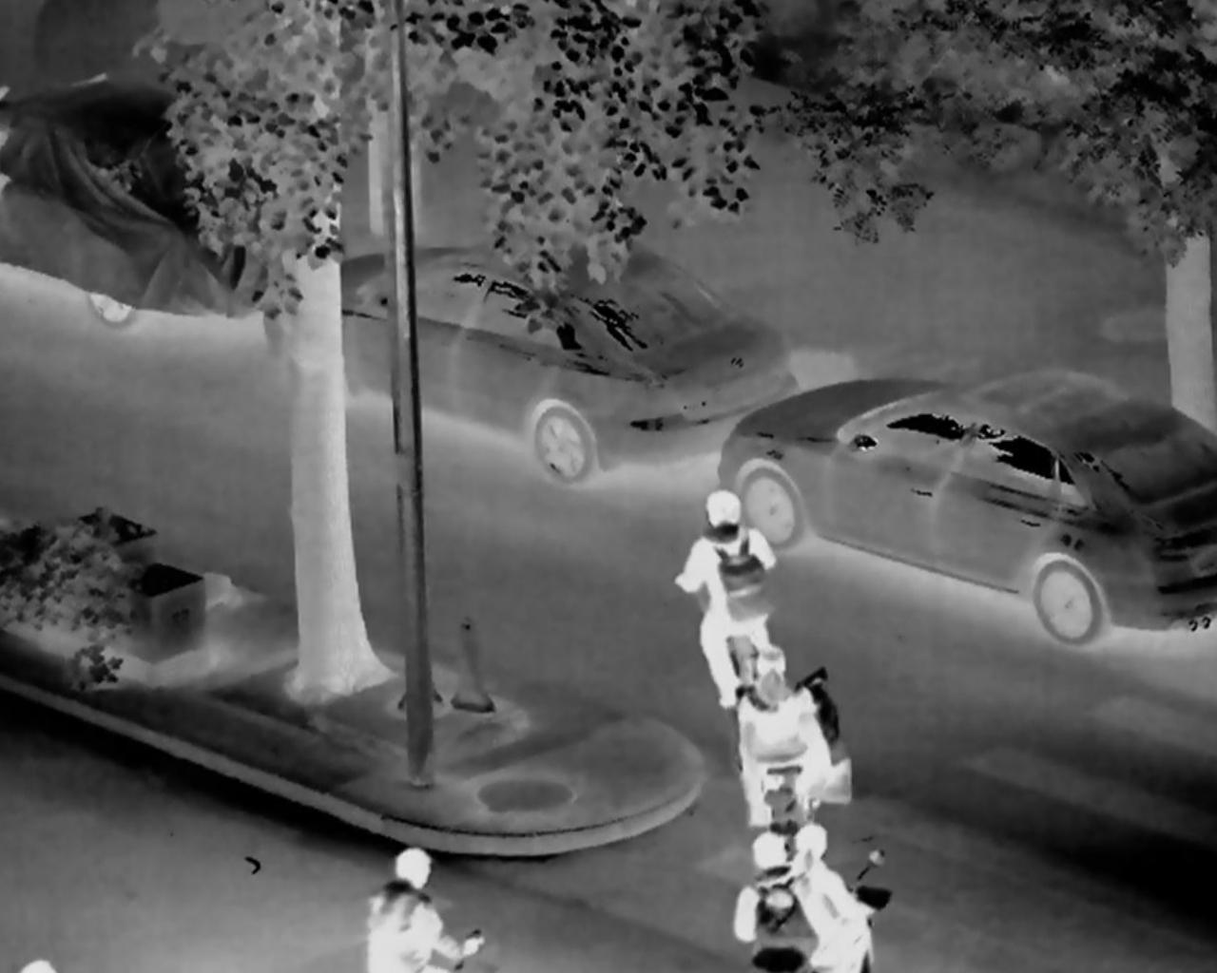person: (672, 486, 796, 708), (731, 827, 881, 973), (742, 644, 848, 835), (354, 831, 493, 973)
